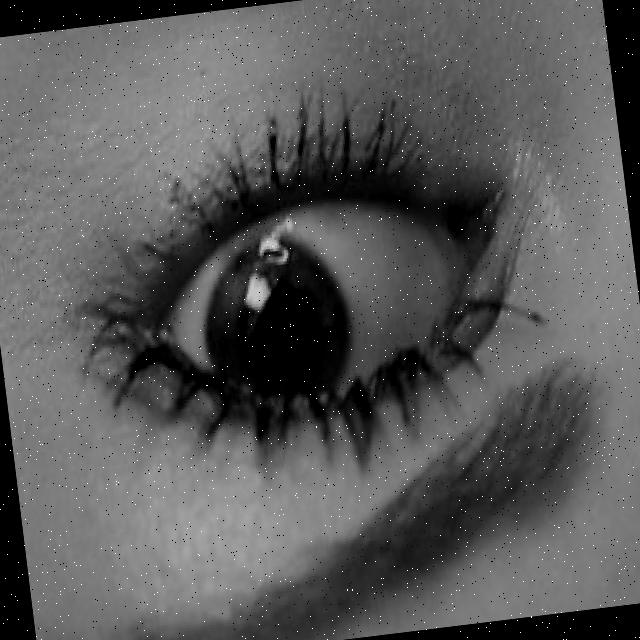Normal: (67, 128, 519, 500)
